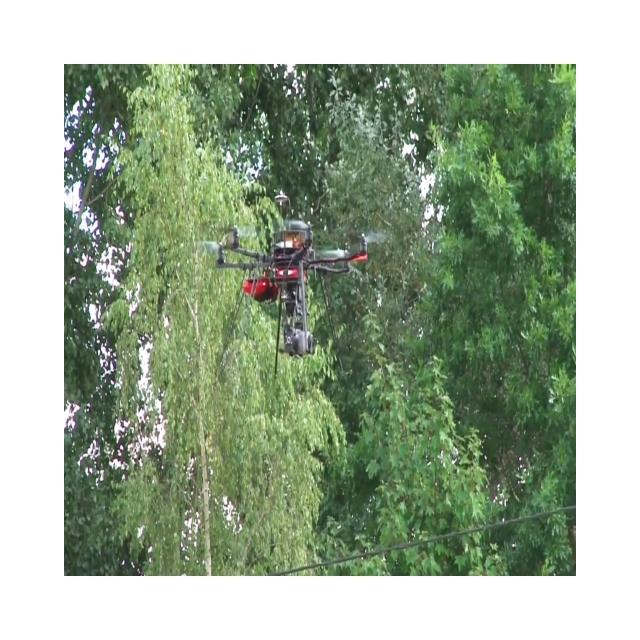drone: (197, 188, 378, 378)
